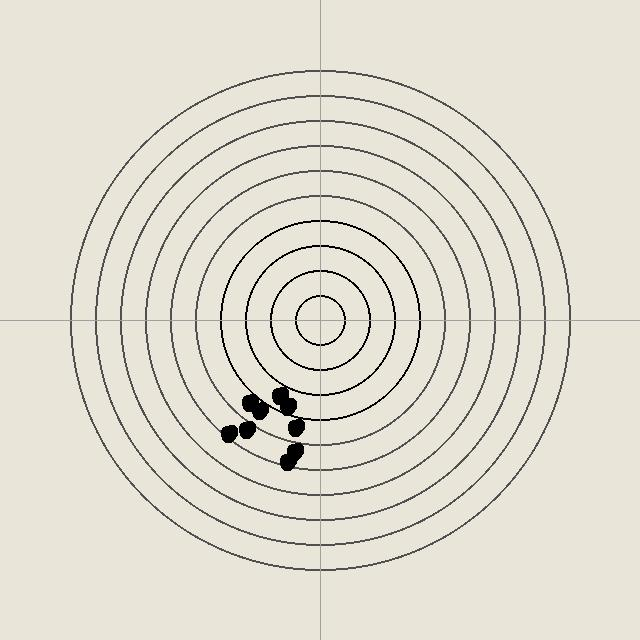good_group: (284, 441, 304, 461), (239, 392, 259, 412), (218, 423, 238, 443), (277, 396, 297, 416), (285, 417, 305, 437), (249, 400, 269, 420), (277, 451, 297, 471), (236, 419, 256, 439), (269, 385, 289, 405)
